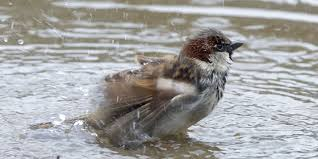hsparrow: (84, 27, 249, 152)
